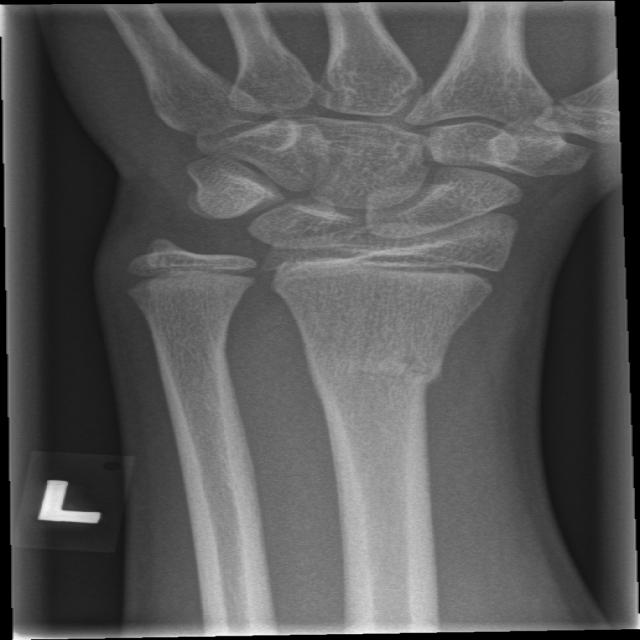radius fracture: (344, 320, 487, 464)
